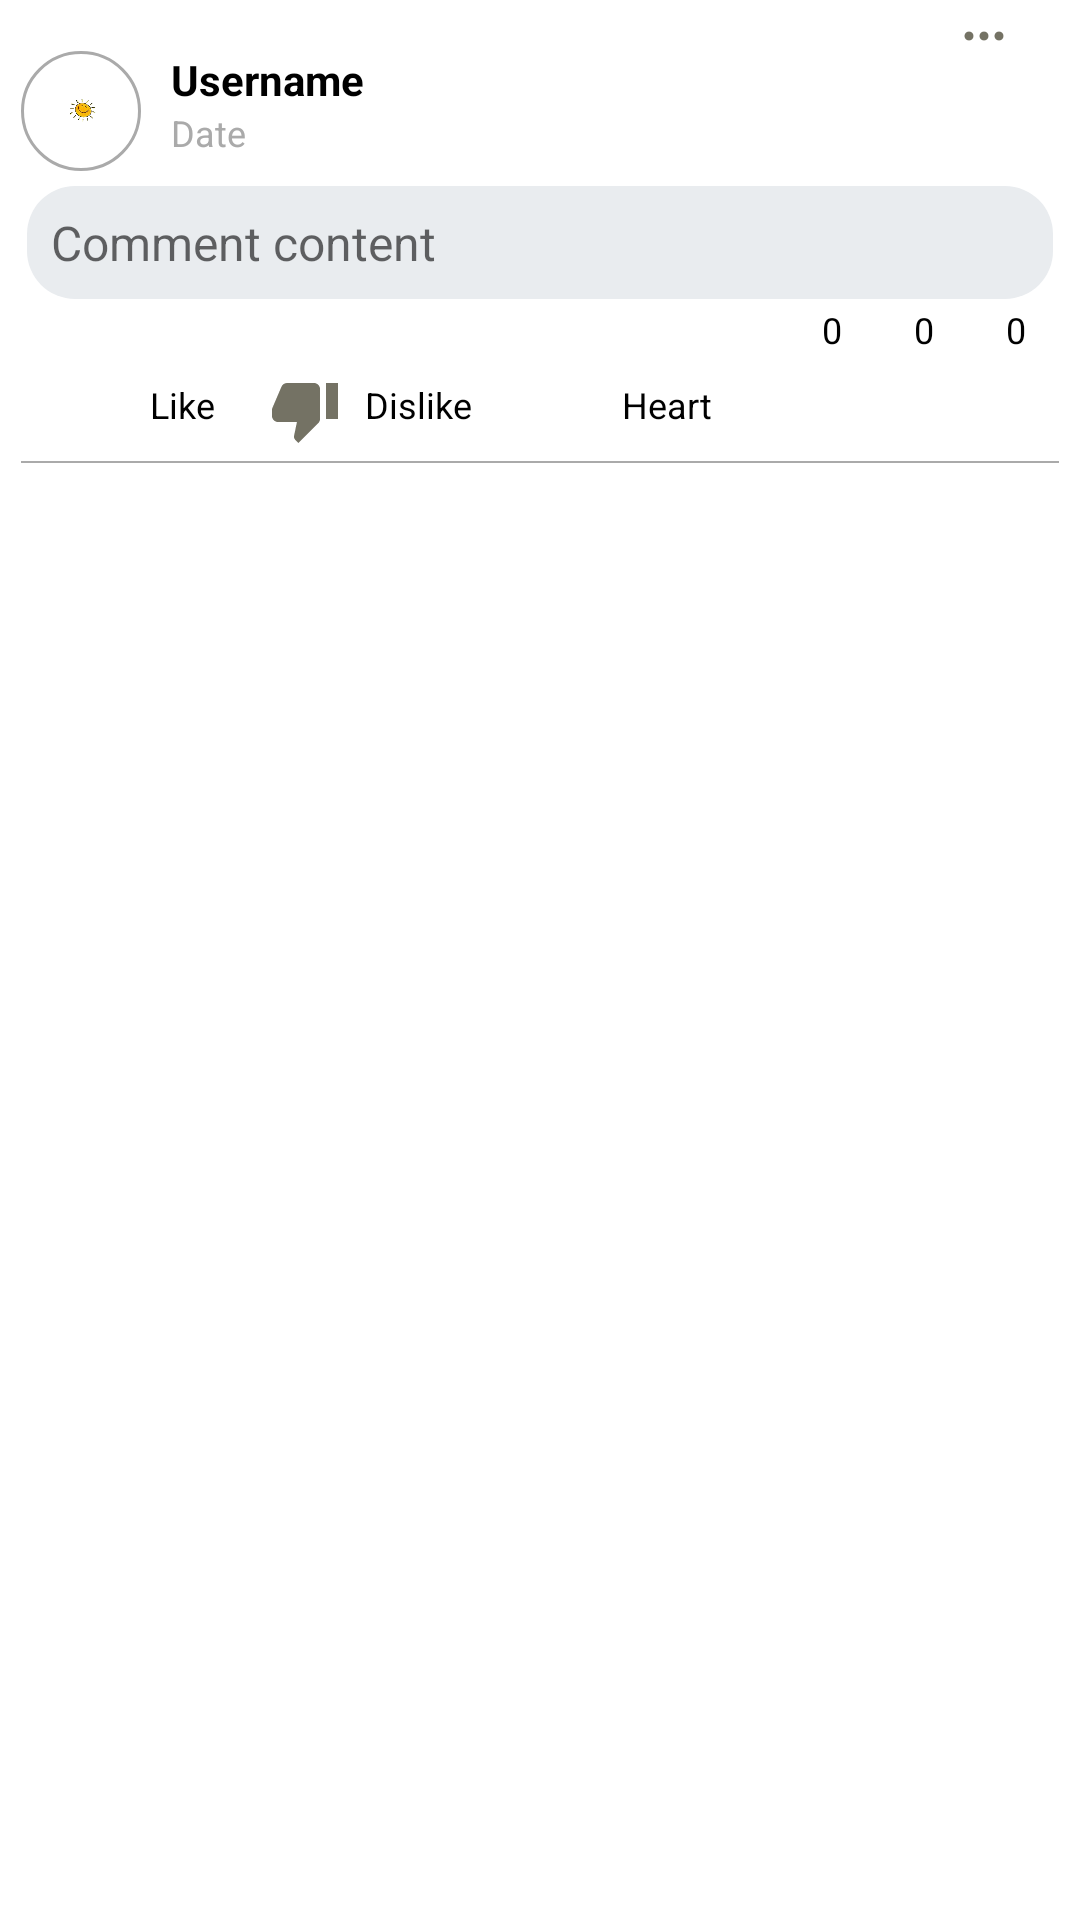

Locate icon controls on the screen. Image size 1080 × 1920, boxes as BBox(x1, y1, x2, y2).
More options: BBox(964, 31, 1004, 41)
